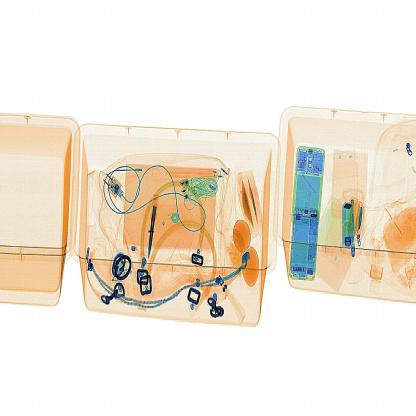gun: (138, 185, 166, 260)
